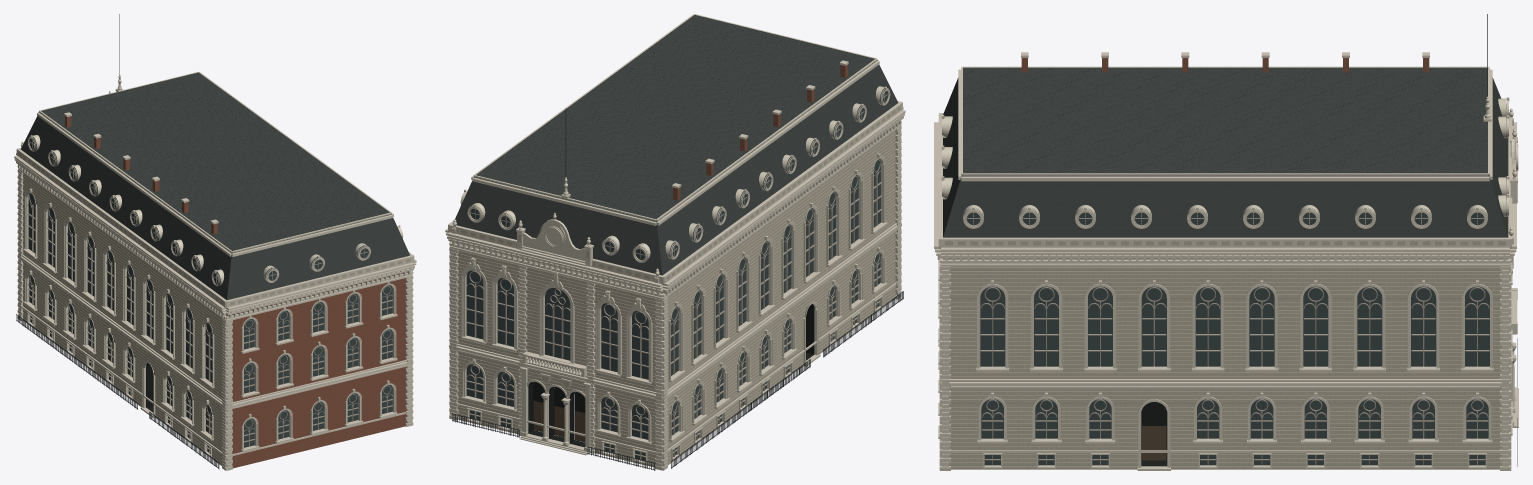
Rendered from chamber_of_commerce_1865__original_1865.glb.
3 views of the same model, side by side, from view 1: azimuth 30°, elevation 25°; view 2: azimuth 150°, elevation 25°; view 3: azimuth 270°, elevation 25° (orthographic). The views are drawn at different scales.
Visible parts, largest first — view 1: chamber_of_commerce_1865; view 2: chamber_of_commerce_1865; view 3: chamber_of_commerce_1865.
Boxes of the visible parts, left/top/right/bottom form: chamber_of_commerce_1865: left=14, top=14, right=416, bottom=470; chamber_of_commerce_1865: left=445, top=14, right=905, bottom=470; chamber_of_commerce_1865: left=934, top=14, right=1518, bottom=470.
Size of the model in its own units: 30.14 by 42.46 by 57.08.
Materials: 9 (3 with a texture image).
